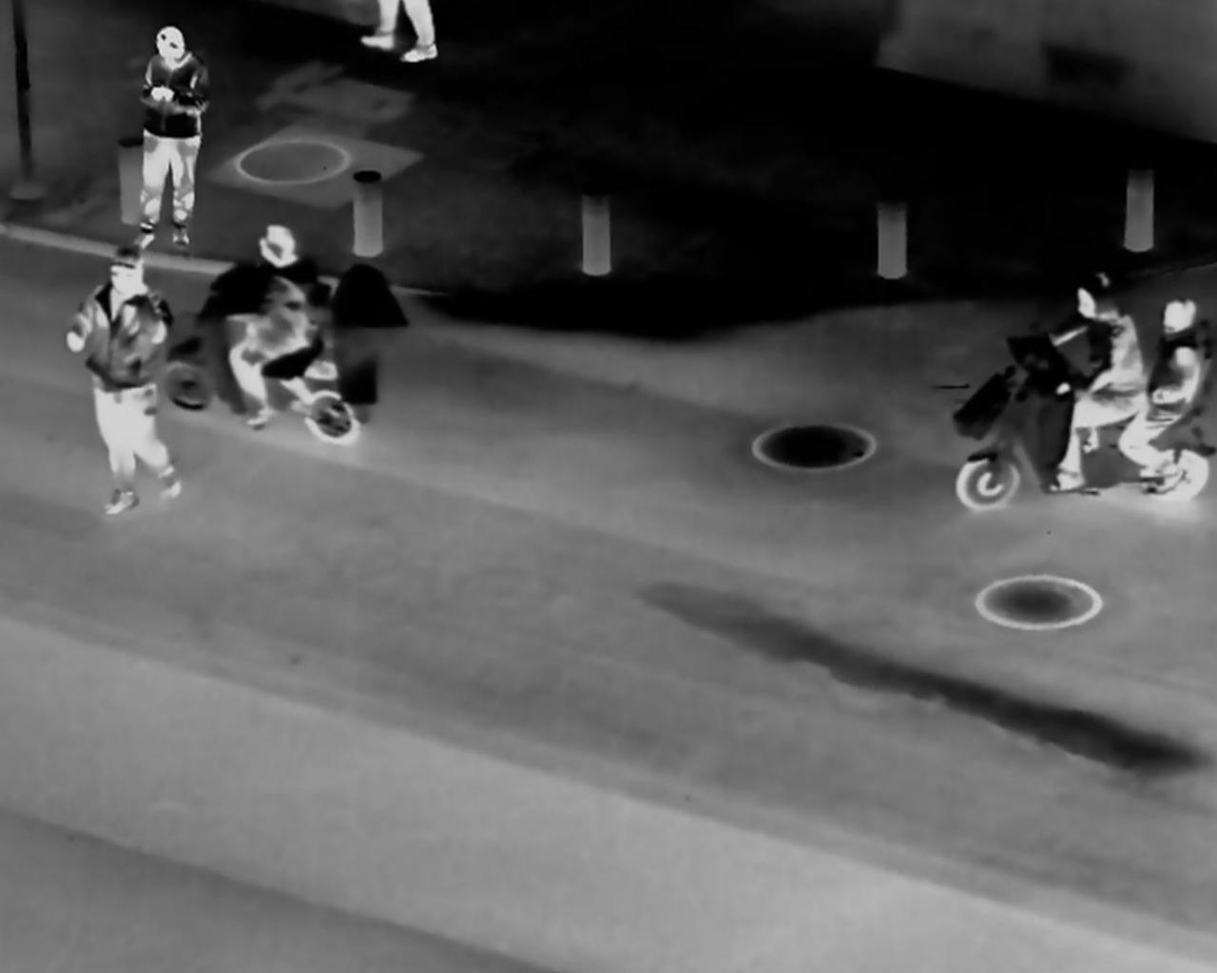person: (64, 240, 179, 517), (1057, 259, 1141, 491), (127, 29, 212, 254), (228, 220, 322, 415), (1123, 293, 1206, 498)
